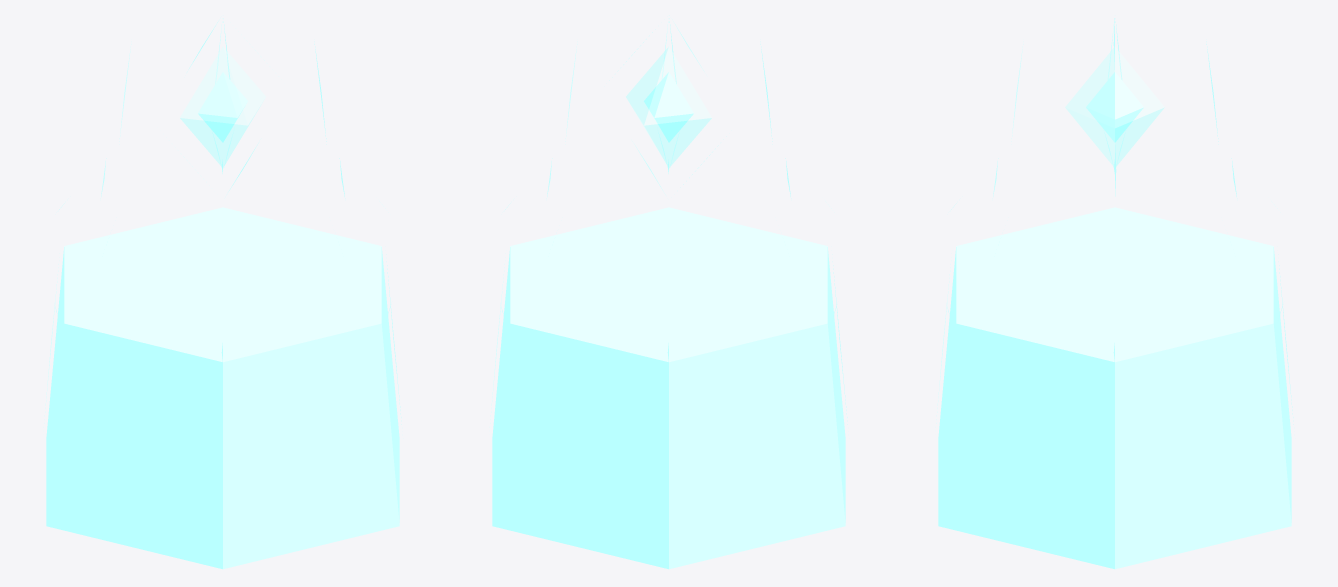
File: phantom.glb
3 renders of one model, left to right at view 1: azimuth 30°, elevation 25°; view 2: azimuth 150°, elevation 25°; view 3: azimuth 270°, elevation 25°, orthographic.
Visible parts, largest first — view 1: body_role_glow_ghost, core, core_heart, body_role_wire; view 2: body_role_glow_ghost, core, core_heart, body_role_wire; view 3: body_role_glow_ghost, core, core_heart, body_role_wire.
Boxes of the visible parts, bbox=[...] form: body_role_glow_ghost: bbox=[46, 207, 399, 569]; core: bbox=[180, 46, 265, 167]; core_heart: bbox=[198, 72, 247, 142]; body_role_wire: bbox=[43, 18, 401, 427]; body_role_glow_ghost: bbox=[492, 207, 845, 569]; core: bbox=[626, 46, 711, 167]; core_heart: bbox=[644, 72, 693, 142]; body_role_wire: bbox=[489, 15, 847, 427]; body_role_glow_ghost: bbox=[938, 207, 1291, 569]; core: bbox=[1065, 46, 1164, 167]; core_heart: bbox=[1086, 72, 1143, 142]; body_role_wire: bbox=[935, 18, 1293, 427].
Bounding box in the file's own units: 1 × 1.25 × 1.
